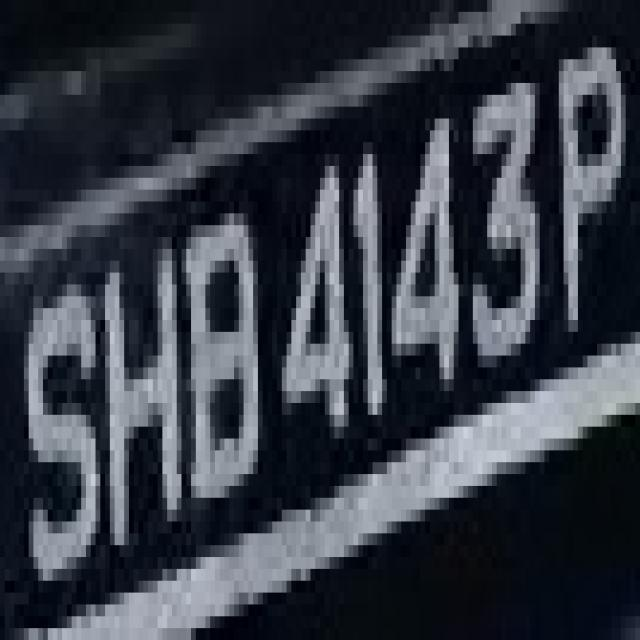1: (344, 107, 401, 462)
3: (454, 71, 549, 403)
4: (258, 130, 358, 474), (382, 95, 468, 403)
B: (182, 202, 277, 534)
H: (91, 225, 191, 581)
P: (544, 0, 635, 367)
S: (5, 249, 110, 628)
